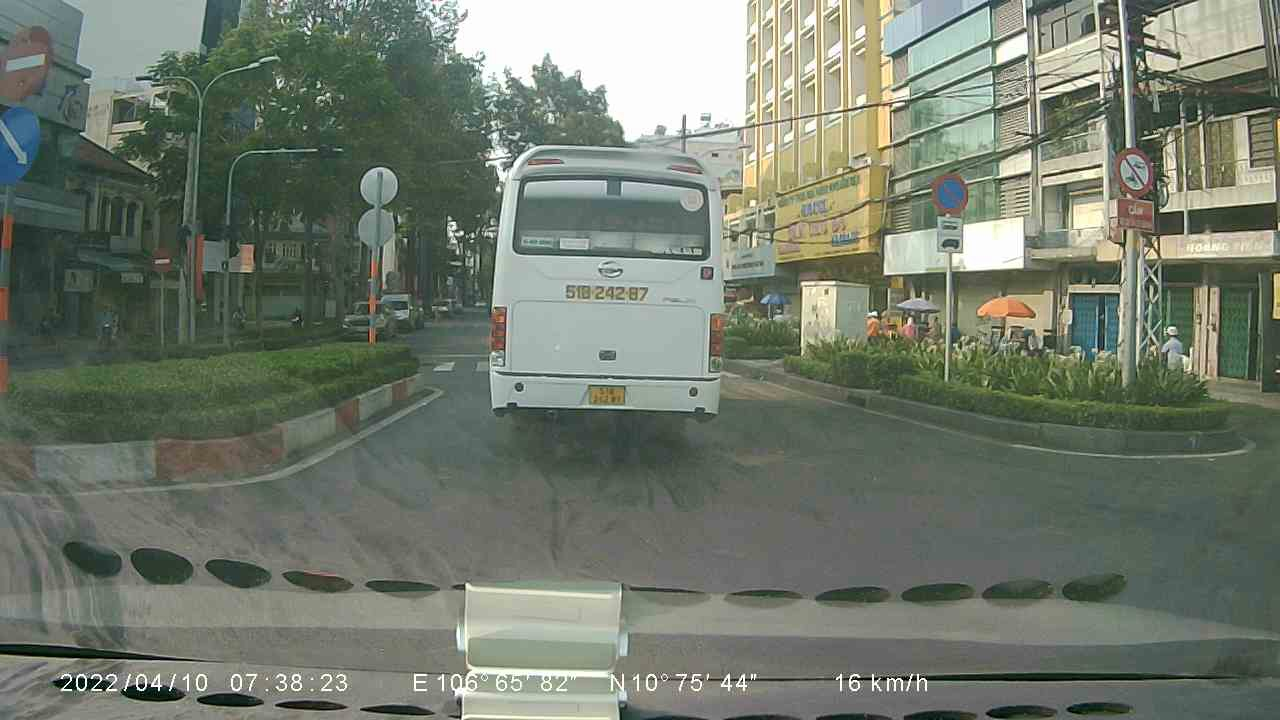Bien khac: (1112, 144, 1160, 197)
Cam di nguoc chieu: (2, 23, 58, 102)
Cam do xe: (928, 167, 969, 217)
Huong di phai re phai: (0, 105, 44, 189)
